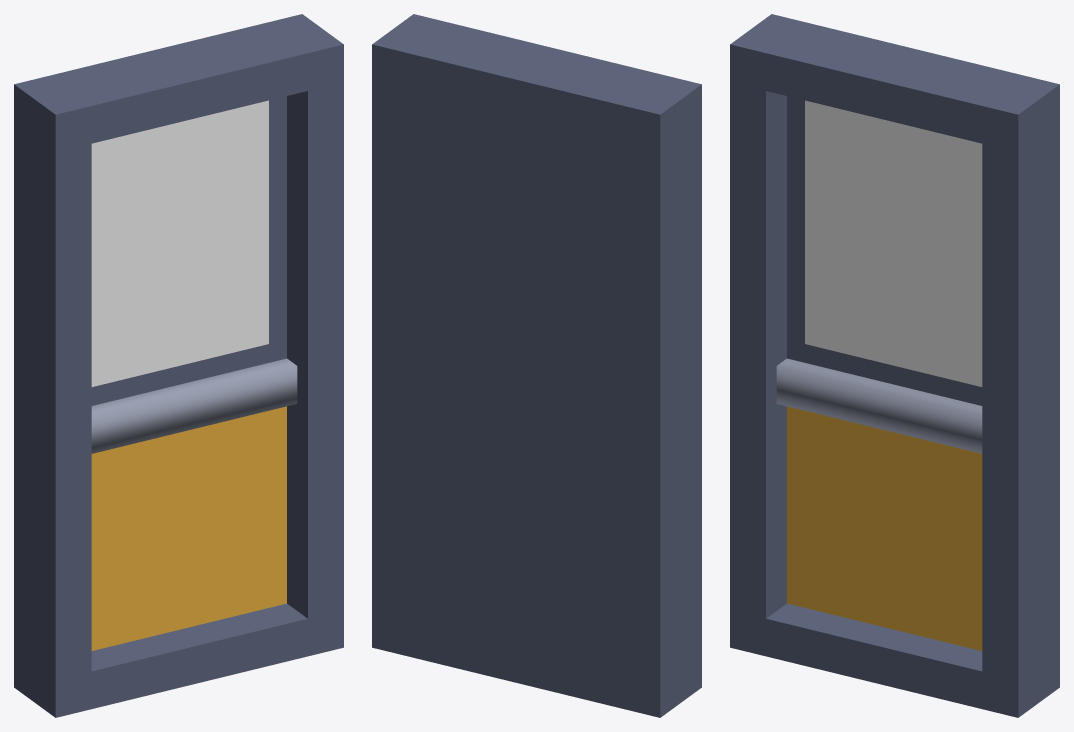
File: Door-transformed.glb
3 renders of one model, left to right at view 1: azimuth 30°, elevation 25°; view 2: azimuth 150°, elevation 25°; view 3: azimuth 330°, elevation 25°, orthographic.
Parts seen in each view (by area): view 1: door; view 2: door; view 3: door.
Boxes of the visible parts, bbox=[...] form: door: bbox=[14, 14, 343, 717]; door: bbox=[372, 14, 701, 717]; door: bbox=[730, 14, 1059, 717].
Bounding box in the file's own units: 0.8 × 1.6 × 0.2.
